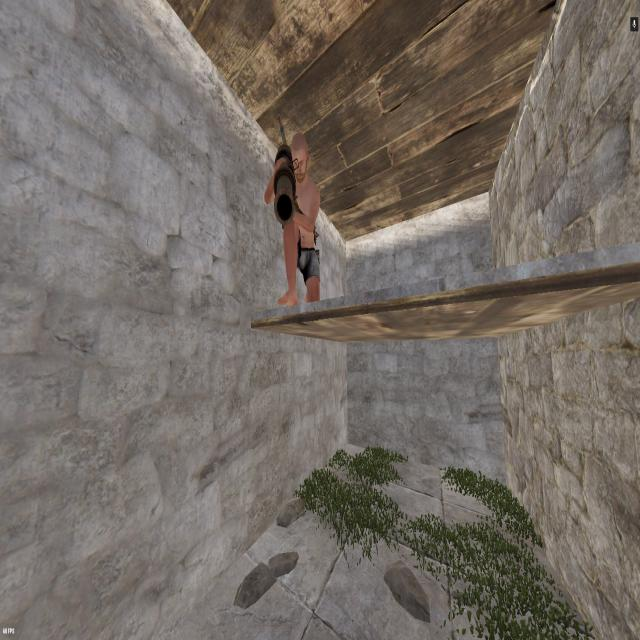Player: (259, 126, 326, 314)
